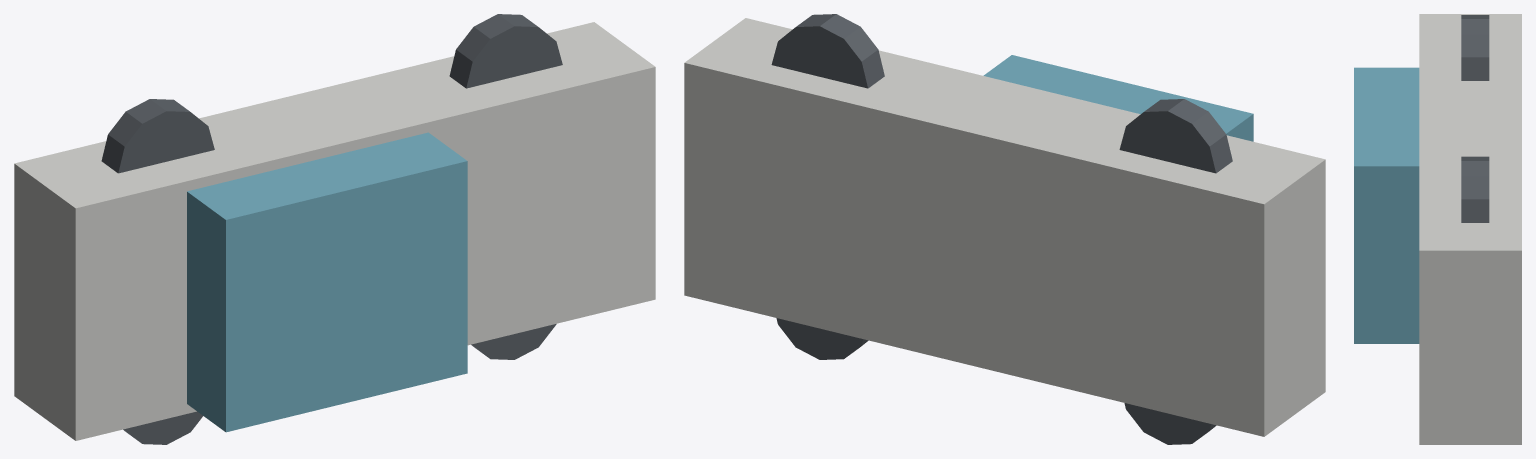
Rendered from van.glb.
3 views of the same model, side by side, from view 1: azimuth 30°, elevation 25°; view 2: azimuth 150°, elevation 25°; view 3: azimuth 270°, elevation 25° (orthographic). The views are drawn at different scales.
Visible parts, largest first — view 1: g0, g1, g5, g3, g4, g2; view 2: g0, g1, g3, g5, g2, g4; view 3: g0, g1, g5, g3.
Boxes of the visible parts, x1=… form: g0: x1=14, y1=22, x2=655, y2=440; g1: x1=187, y1=132, x2=467, y2=432; g5: x1=449, y1=14, x2=562, y2=88; g3: x1=101, y1=99, x2=214, y2=173; g4: x1=471, y1=324, x2=556, y2=359; g2: x1=123, y1=411, x2=202, y2=444; g0: x1=684, y1=18, x2=1325, y2=436; g1: x1=983, y1=55, x2=1253, y2=141; g3: x1=1119, y1=99, x2=1232, y2=173; g5: x1=771, y1=14, x2=884, y2=88; g2: x1=1124, y1=403, x2=1216, y2=444; g4: x1=776, y1=318, x2=868, y2=359; g0: x1=1419, y1=14, x2=1521, y2=444; g1: x1=1354, y1=67, x2=1419, y2=343; g5: x1=1461, y1=156, x2=1489, y2=222; g3: x1=1461, y1=15, x2=1489, y2=80.
Bounding box in the file's own units: 6 × 3.3 × 1.8.
